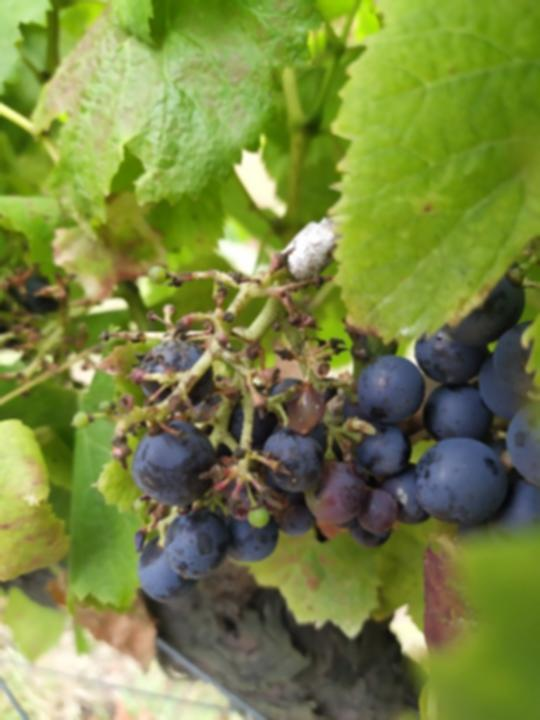grape: (70, 264, 396, 603)
